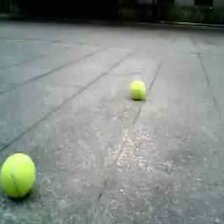tennis: (2, 154, 35, 196), (129, 81, 146, 98)
